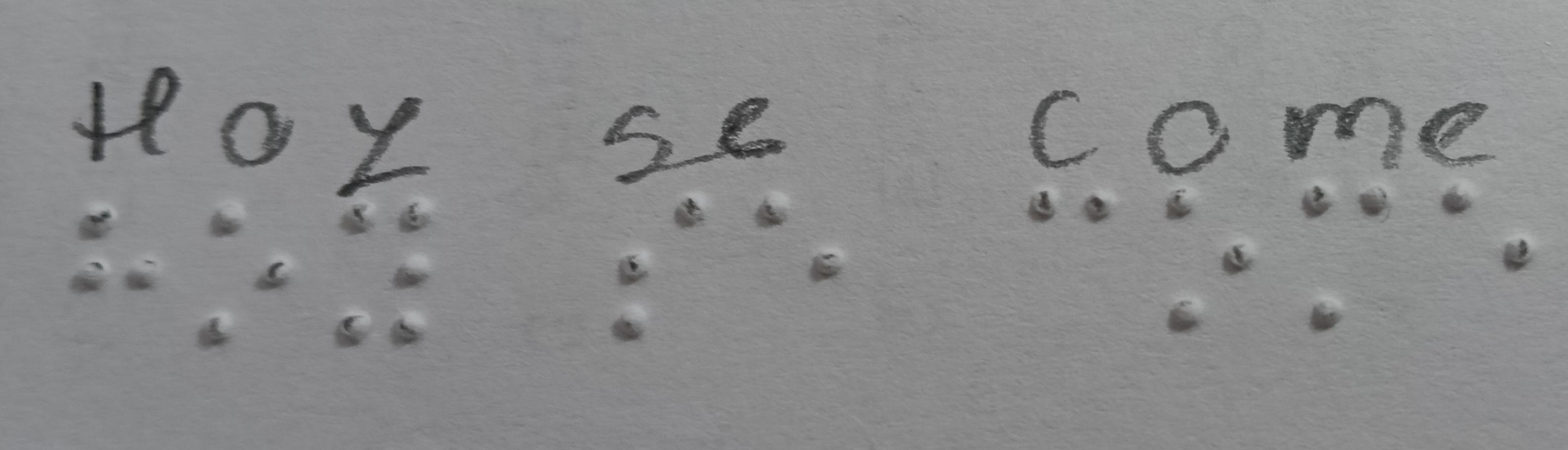c: (1021, 183, 1128, 237)
e: (1418, 174, 1542, 283), (749, 178, 853, 288)
h: (59, 192, 176, 304)
m: (1278, 174, 1390, 340)
o: (186, 202, 301, 347), (1151, 184, 1255, 334)
s: (596, 196, 726, 350)
y: (318, 187, 450, 368)
